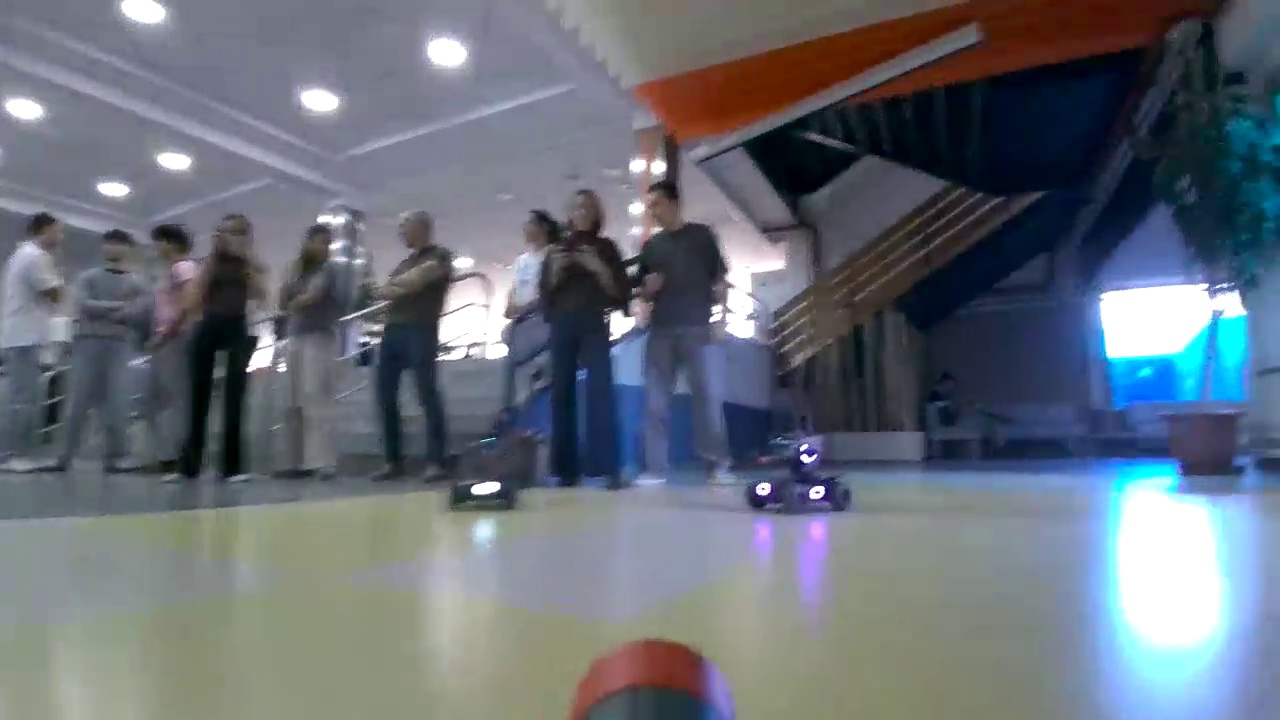robot: (747, 431, 851, 517), (449, 437, 519, 509)
